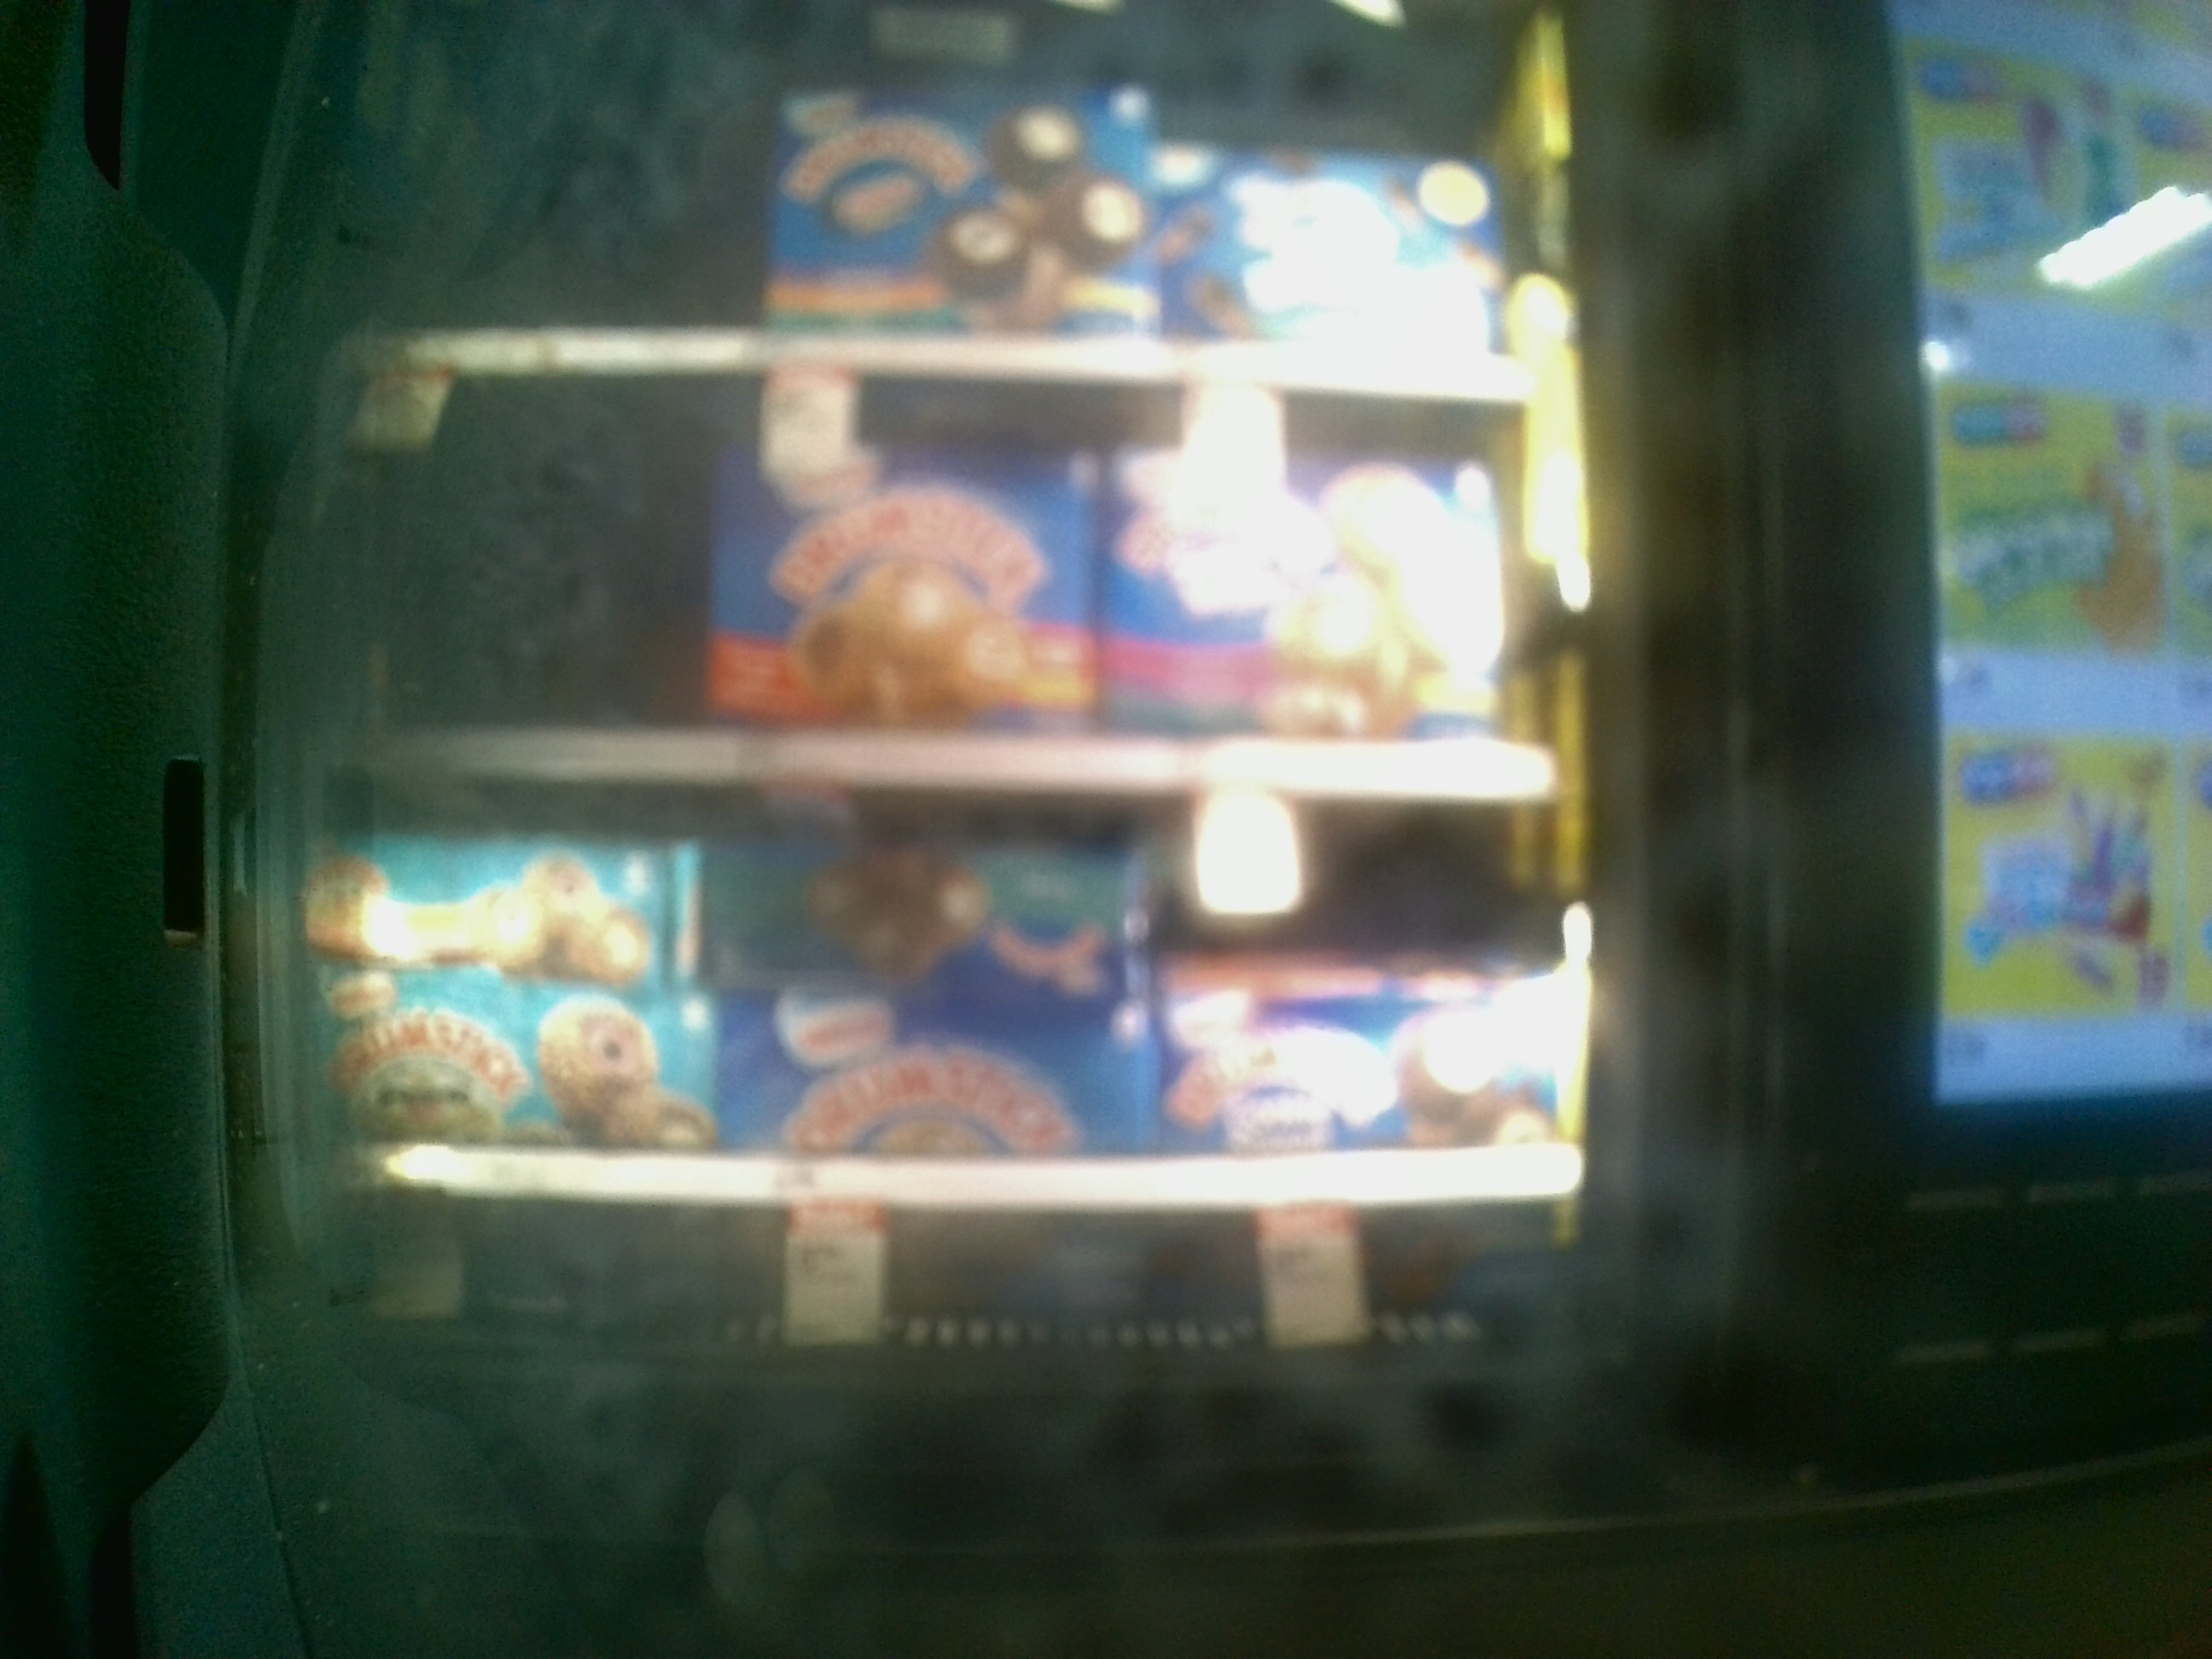shelf: (336, 373, 1564, 791), (334, 793, 1588, 1201)
